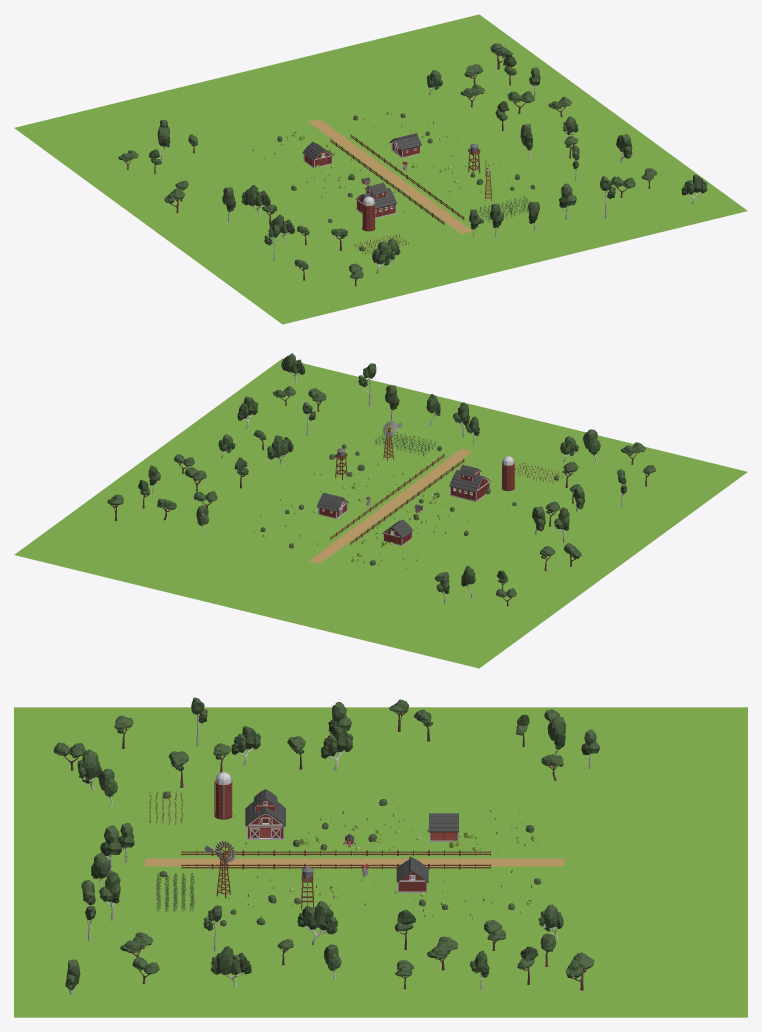
File: env_farm.glb
3 views of the same model, one above another, from view 1: azimuth 30°, elevation 25°; view 2: azimuth 150°, elevation 25°; view 3: azimuth 270°, elevation 25° (orthographic). The views are drawn at different scales.
Parts seen in each view (by area): view 1: ground, path, BigBarn, Small_Barn, OpenBarn; view 2: ground, path, BigBarn, Small_Barn, OpenBarn; view 3: ground, BirchTree_4 (×4), path, BigBarn, BirchTree_3 (×2), Small_Barn, OpenBarn, Silo, BirchTree_1, CommonTree_2.
Part boxes in pixels (box(x1,y1,x2,y2)): ground: box(14, 14, 747, 324); path: box(308, 119, 472, 233); BigBarn: box(356, 182, 396, 218); Small_Barn: box(389, 133, 421, 158); OpenBarn: box(302, 142, 333, 168); ground: box(14, 358, 747, 668); path: box(308, 449, 472, 563); BigBarn: box(449, 464, 490, 501); Small_Barn: box(316, 492, 348, 518); OpenBarn: box(382, 519, 413, 545); ground: box(14, 707, 747, 1017); BirchTree_4 (×4): box(210, 726, 353, 987); path: box(145, 858, 564, 866); BigBarn: box(245, 789, 285, 839); BirchTree_3 (×2): box(99, 825, 121, 920); Small_Barn: box(396, 856, 428, 892); OpenBarn: box(429, 813, 458, 841); Silo: box(214, 772, 232, 819); BirchTree_1: box(77, 749, 101, 790); CommonTree_2: box(566, 952, 594, 990).
Size of the model in its own units: 140 by 12.37 by 140.
Materials: 20 (2 with a texture image).
